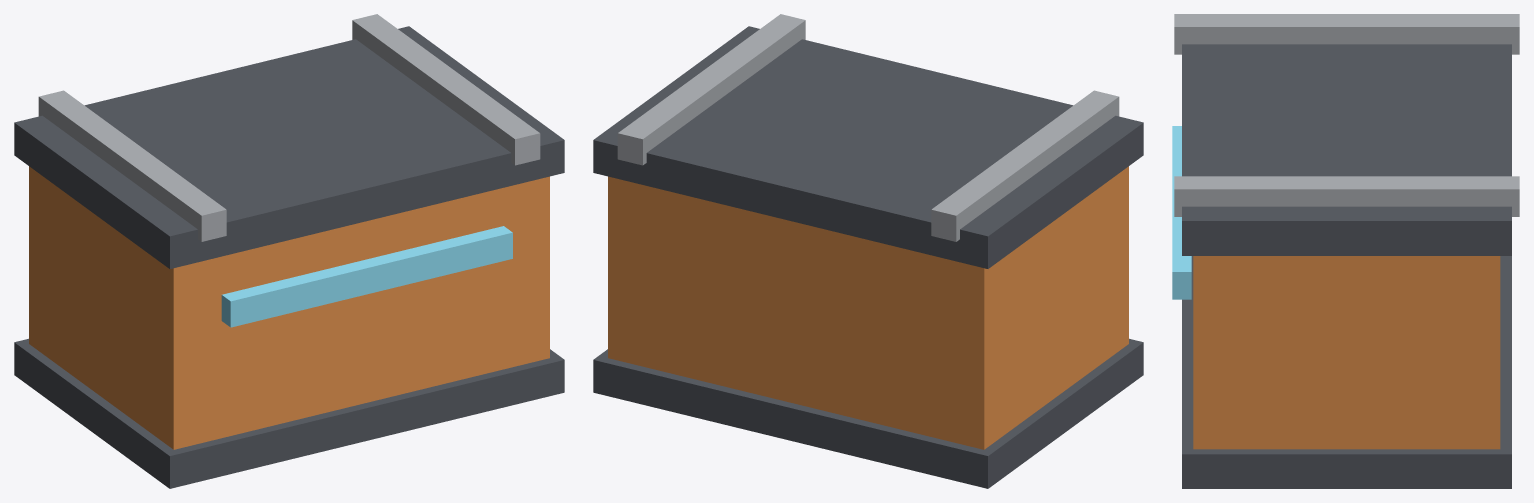
The model's file is crate.fbx.
3 views of the same model, side by side, from view 1: azimuth 30°, elevation 25°; view 2: azimuth 150°, elevation 25°; view 3: azimuth 270°, elevation 25° (orthographic). The views are drawn at different scales.
Visible parts, largest first — view 1: Body; view 2: Body; view 3: Body.
Part boxes in pixels (<box>): Body: <box>14,14,564,488</box>; Body: <box>593,14,1143,488</box>; Body: <box>1172,14,1519,488</box>.
Bounding box in the file's own units: 1.26 × 0.82 × 0.905.
